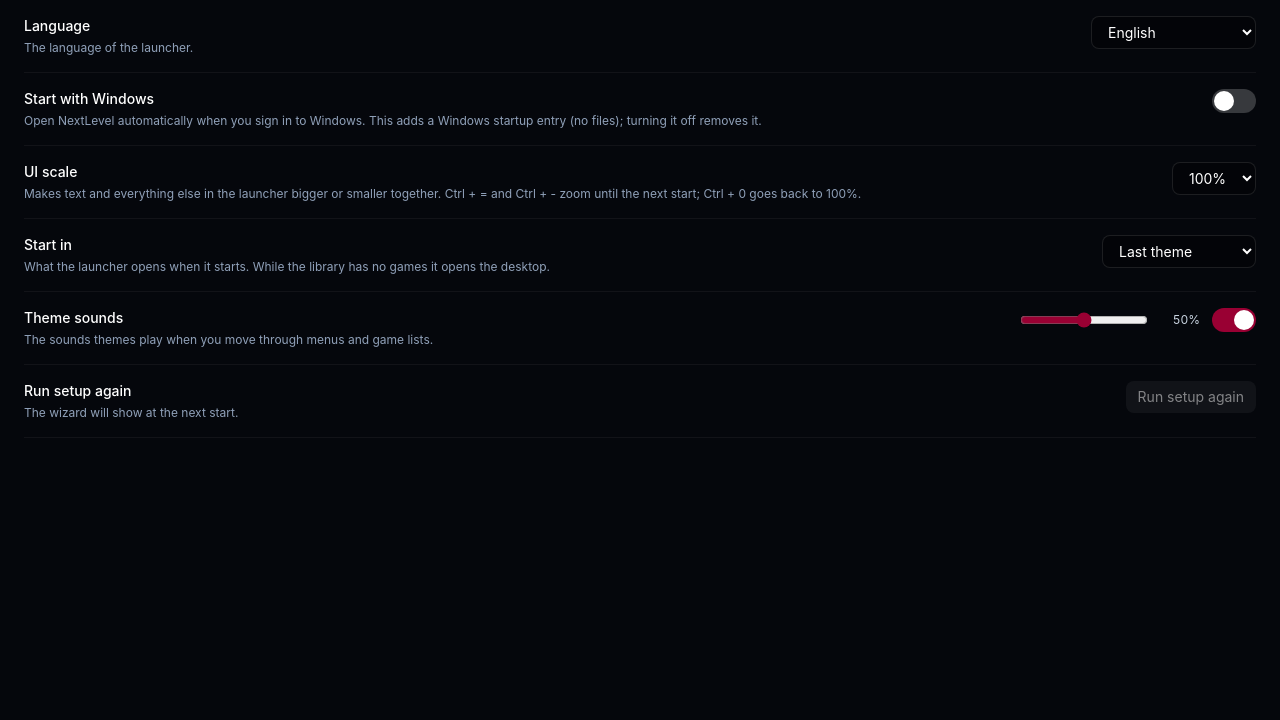
Test: GeneralSection › Discard restores the saved values and hides the save bar
Click the switch named "Start with Windows" in the row of "Start with Windows": (1234, 101) [1212,89,1256,113]
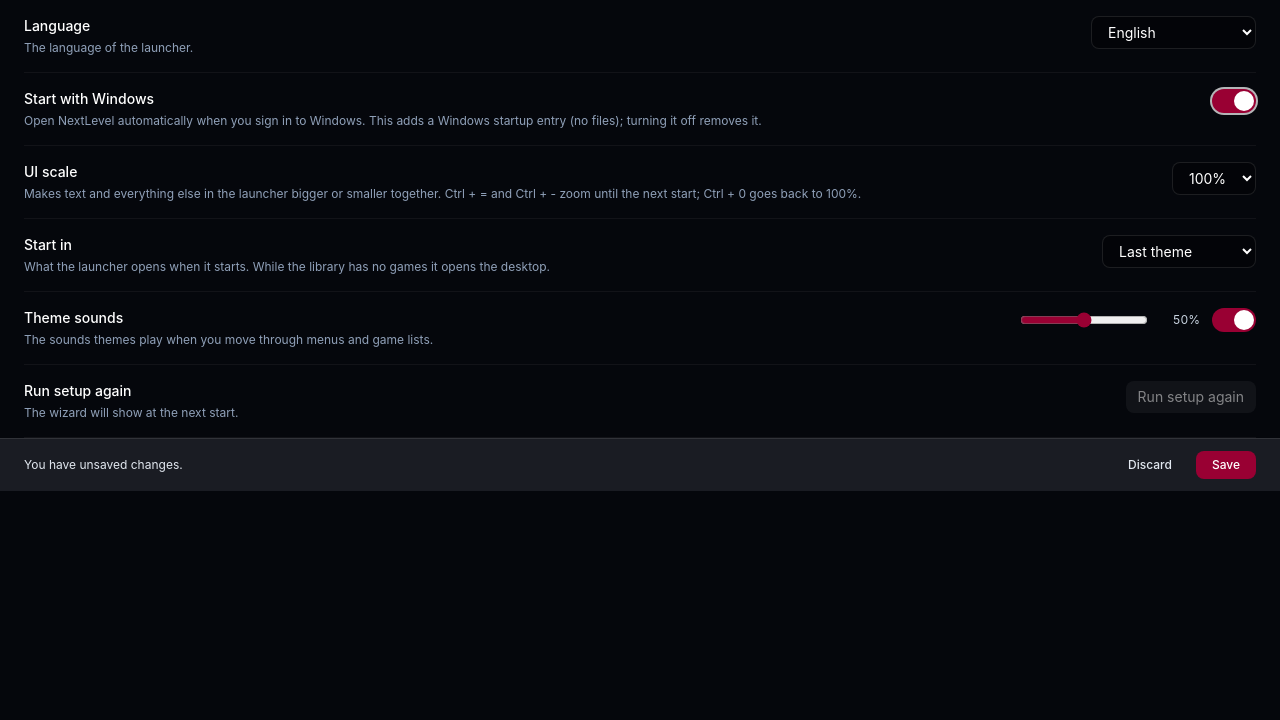
Click the button "Discard": (1150, 465) [1112,451,1188,479]
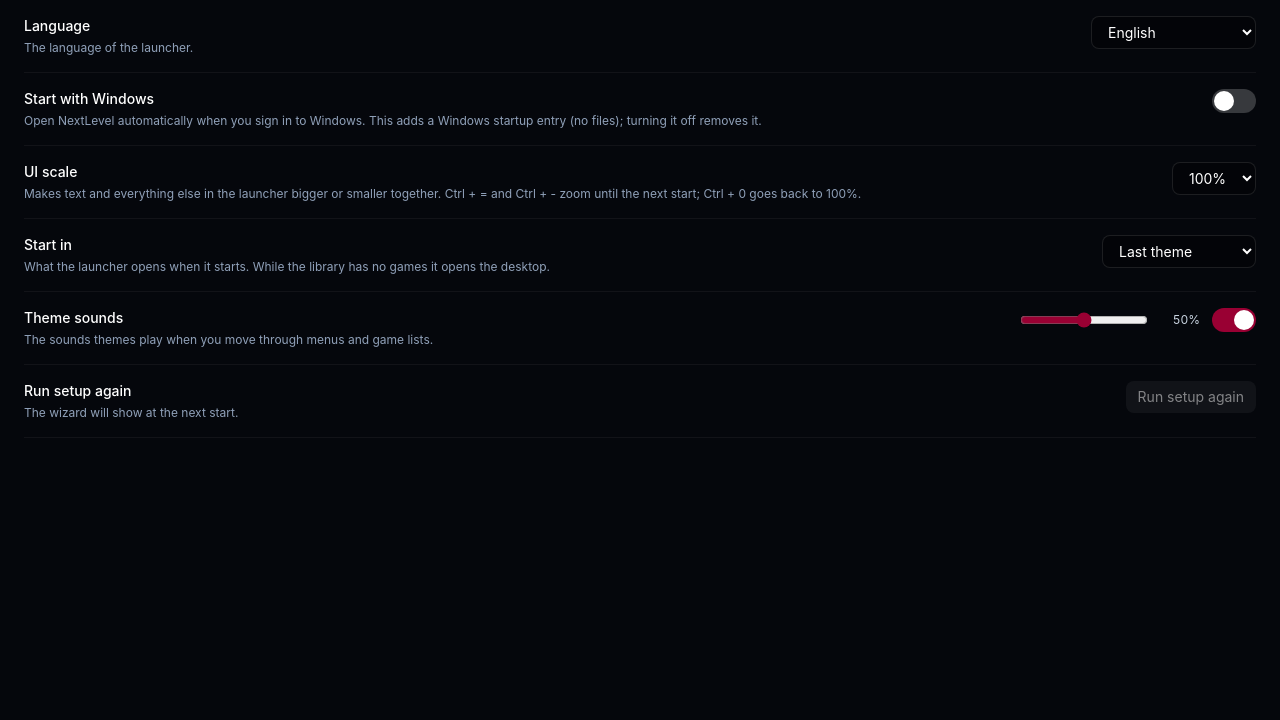
Check: the switch named "Start with Windows" in the row of "Start with Windows" is not checked, box [1212,89,1256,113]
Check: the button "Discard" is gone
